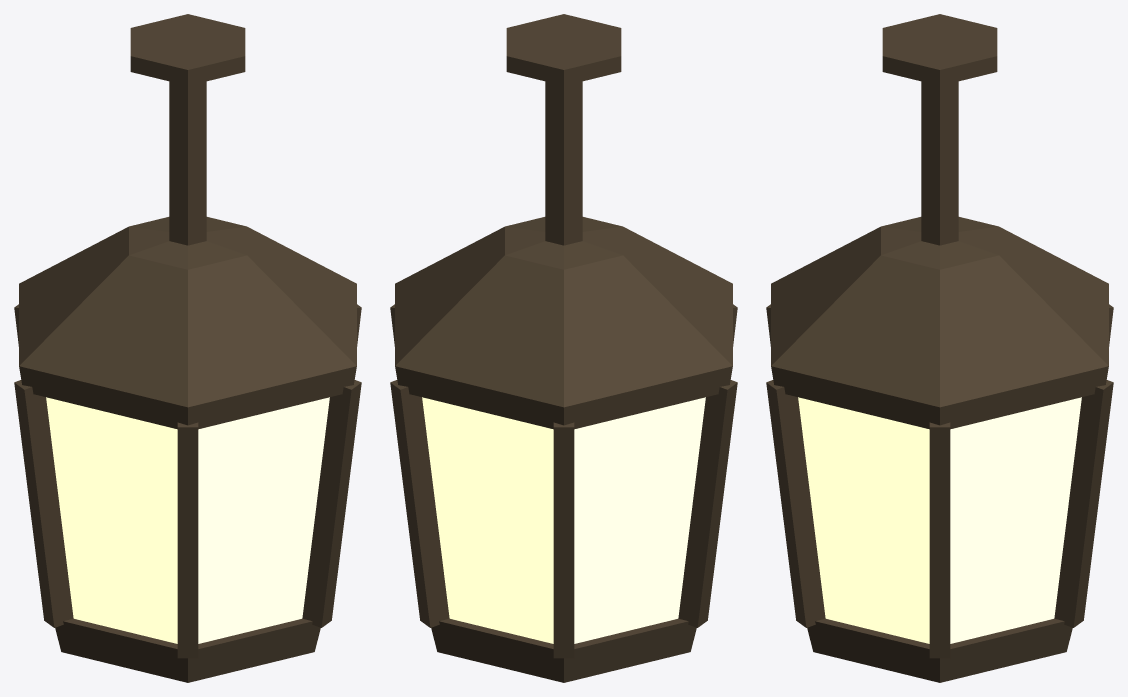
The model's file is iron_lantern.glb.
3 views of the same model, side by side, from view 1: azimuth 30°, elevation 25°; view 2: azimuth 150°, elevation 25°; view 3: azimuth 270°, elevation 25° (orthographic).
Visible parts, largest first — view 1: Forged lantern frame, Lantern panes; view 2: Forged lantern frame, Lantern panes; view 3: Forged lantern frame, Lantern panes.
Boxes of the visible parts, x1,y1,x2,y2 form: Forged lantern frame: [14, 14, 361, 682]; Lantern panes: [46, 397, 329, 643]; Forged lantern frame: [390, 14, 737, 682]; Lantern panes: [422, 397, 705, 643]; Forged lantern frame: [766, 14, 1113, 682]; Lantern panes: [798, 397, 1081, 643].
Size of the model in its own units: 0.4 by 0.68 by 0.3563.
